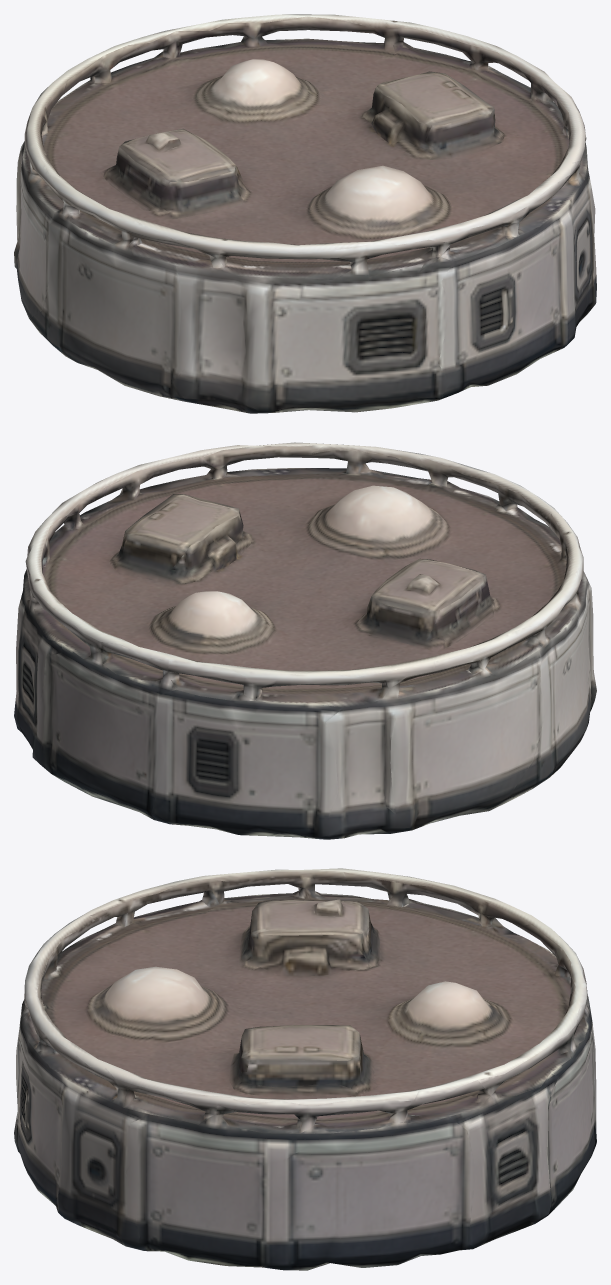
The model's file is 남산_전망대받침.glb.
3 views of the same model, one above another, from view 1: azimuth 30°, elevation 25°; view 2: azimuth 150°, elevation 25°; view 3: azimuth 270°, elevation 25° (orthographic).
Visible parts, largest first — view 1: texture_mapping; view 2: texture_mapping; view 3: texture_mapping.
Boxes of the visible parts, <box> form: texture_mapping: <box>14,14,596,413</box>; texture_mapping: <box>14,442,596,839</box>; texture_mapping: <box>14,868,596,1270</box>.
Size of the model in its own units: 1 by 0.3567 by 1.01.
1 material, 1 textured.
